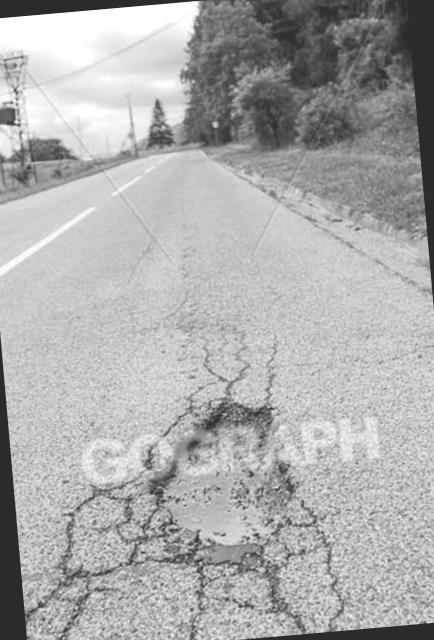Pothole: (111, 362, 352, 608)
